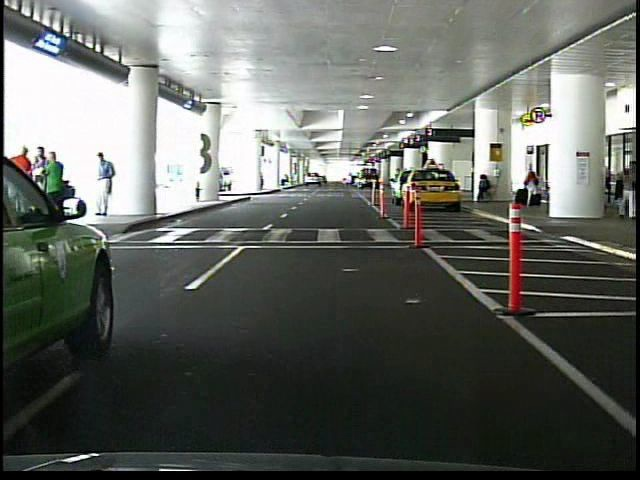person: (14, 145, 37, 221), (616, 155, 640, 218), (47, 151, 71, 210), (98, 151, 119, 217), (37, 144, 53, 211), (524, 161, 542, 208), (476, 171, 495, 202)
